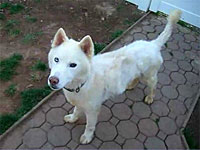dog: (46, 9, 182, 143)
